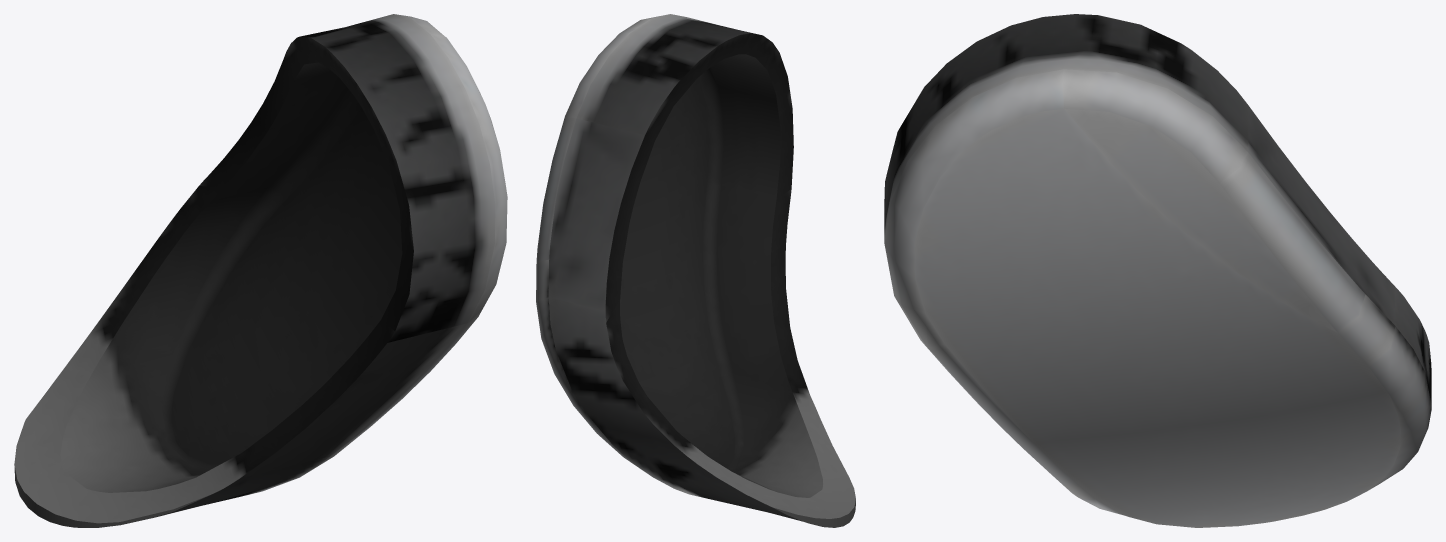
Rendered from button_grip.obj.
3 views of the same model, side by side, from view 1: azimuth 30°, elevation 25°; view 2: azimuth 150°, elevation 25°; view 3: azimuth 270°, elevation 25° (orthographic). The views are drawn at different scales.
Parts seen in each view (by area): view 1: button_grip.002; view 2: button_grip.002; view 3: button_grip.002.
Part boxes in pixels (left/top/right/bottom): button_grip.002: left=14, top=14, right=507, bottom=527; button_grip.002: left=536, top=14, right=855, bottom=527; button_grip.002: left=884, top=14, right=1431, bottom=527.
Bounding box in the file's own units: 0.015 × 0.0191 × 0.0171.
1 material, 1 textured.
